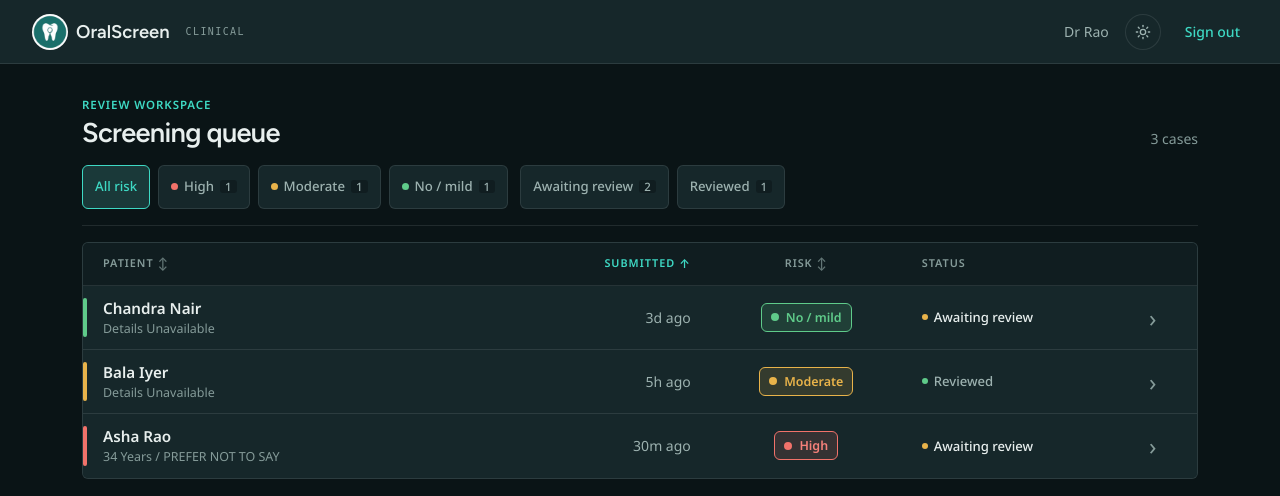
it: filtering › combines a risk and a status filter
Click the button "High 1" at (204, 186), box [158,164,250,208]
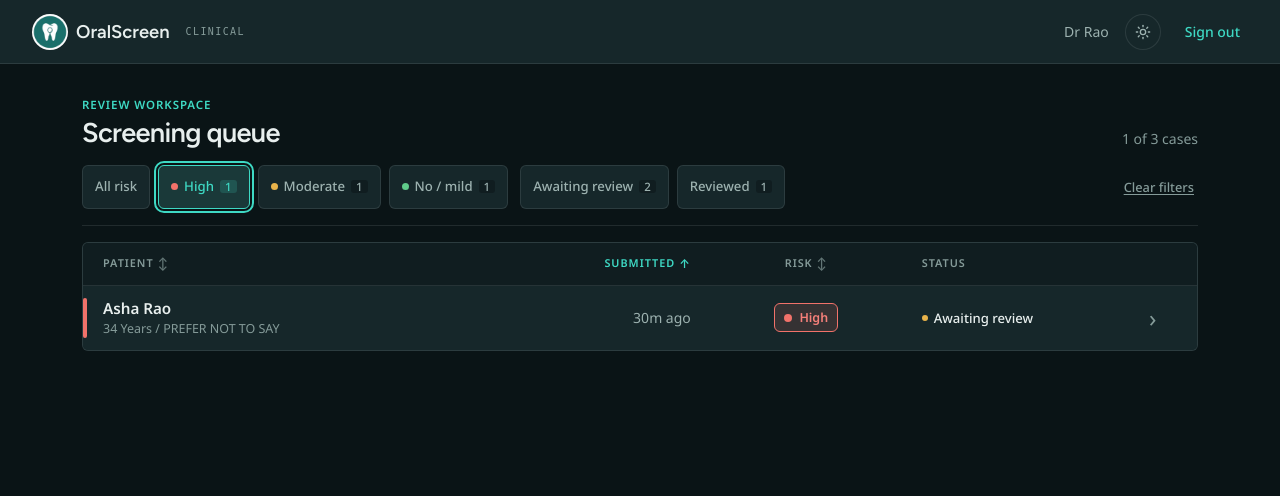
Click the button "Reviewed 1" at (731, 186), box [677,164,785,208]
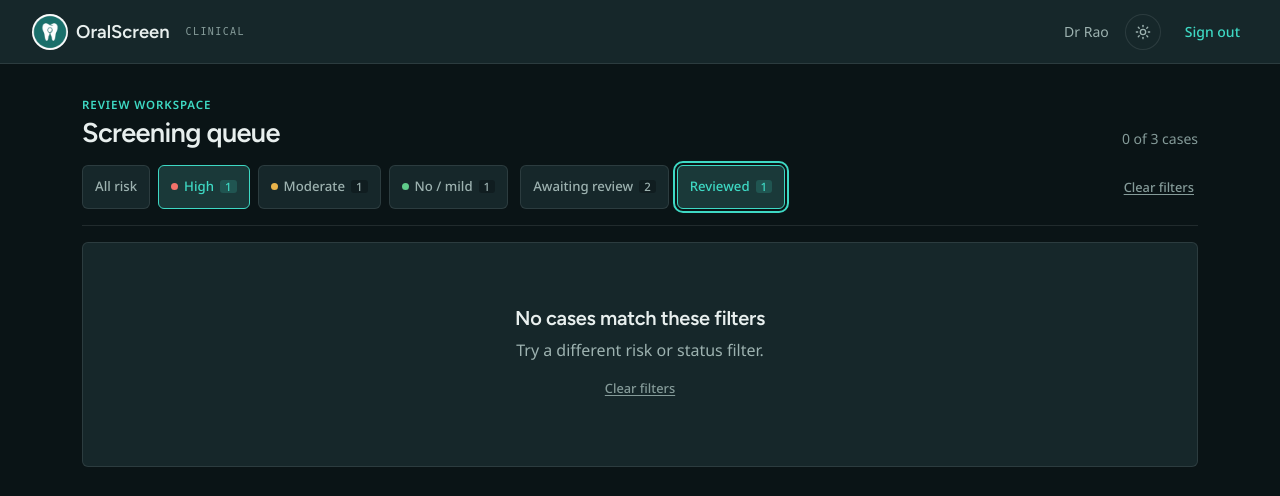
Expected: the heading "No cases match these filters" is shown, [515,306,765,330]
